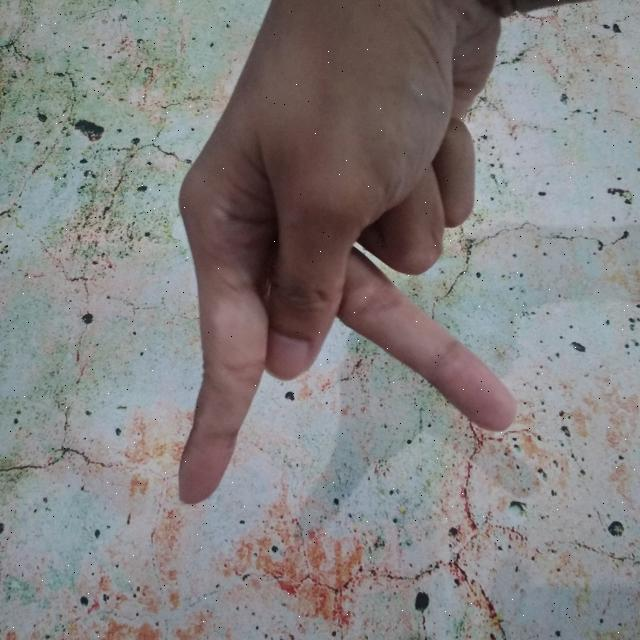P: (163, 0, 599, 516)
